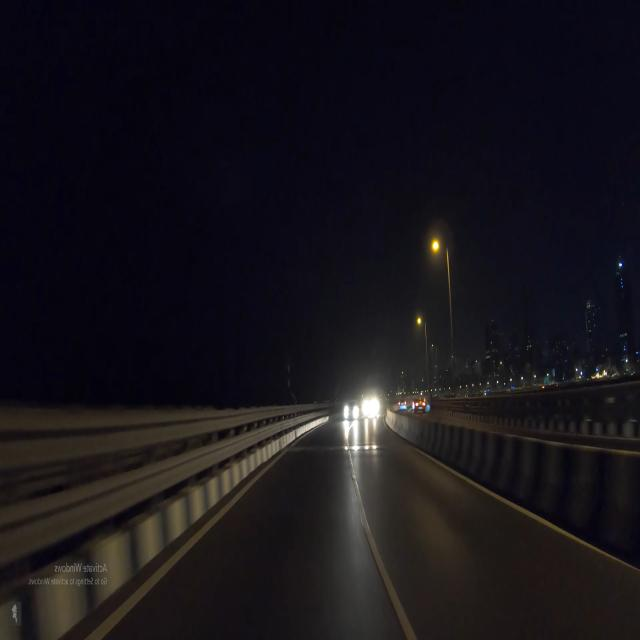headlights: (339, 401, 360, 421)
